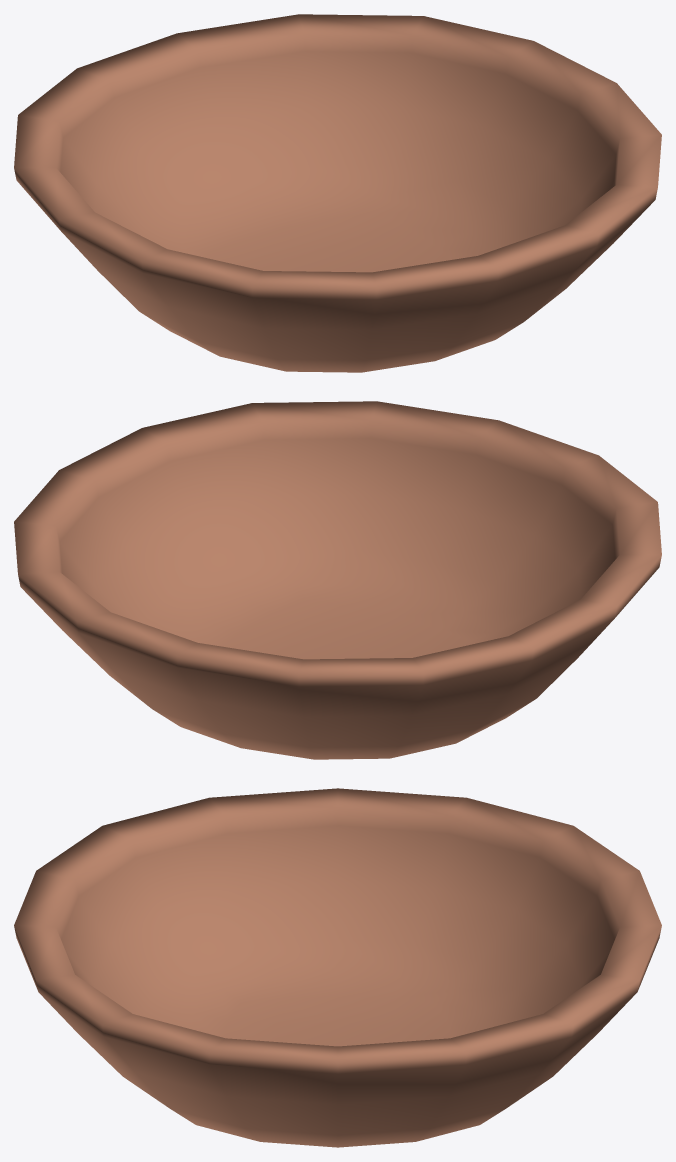
File: BowlBig.fbx
The picture shows the model from 3 angles, top to bottom: view 1: azimuth 30°, elevation 25°; view 2: azimuth 150°, elevation 25°; view 3: azimuth 270°, elevation 25°; orthographic projection.
Parts seen in each view (by area): view 1: Bowl_Big; view 2: Bowl_Big; view 3: Bowl_Big.
Part boxes in pixels (x1,y1,x2,y2): Bowl_Big: [14, 14, 661, 372]; Bowl_Big: [14, 401, 661, 759]; Bowl_Big: [14, 788, 661, 1147].
Size of the model in its own units: 32.14 by 7.87 by 32.14.
